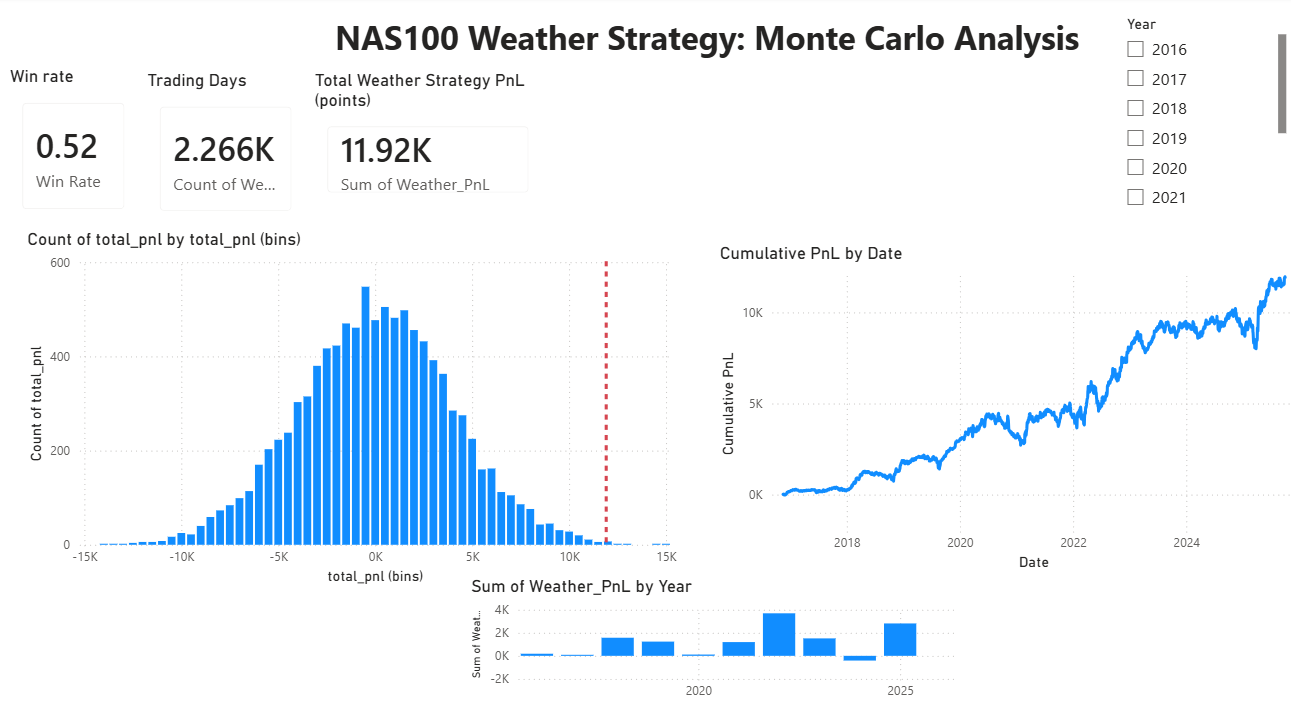

Layout of this report page (visuals, bound fields, positions):
{"tool":"powerbi","page":{"name":"Page 1","canvas":[1280,720],"ordinal":0},"visuals":[{"type":"cardVisual","title":"Total Weather Strategy PnL (points)","fields":{"Data":["Sum(daily_results.Weather_PnL)"]},"box":[308.2,72.1,231.1,138.2],"z":0},{"type":"columnChart","fields":{"Y":["CountNonNull(mc_simulations.total_pnl)"],"Category":["mc_simulations.total_pnl (bins)"]},"box":[26.9,227.4,645.7,353.4],"z":1000},{"type":"lineChart","fields":{"Y":["daily_results.Cumulative PnL"],"Category":["daily_results.Date"]},"box":[704.4,240.9,576,326.5],"z":2000},{"type":"clusteredColumnChart","fields":{"Category":["daily_results.Date.Variation.Date Hierarchy.Year"],"Y":["Sum(daily_results.Weather_PnL)"]},"box":[461,567.4,486.7,130.8],"z":3000},{"type":"slicer","fields":{"Values":["daily_results.Date.Variation.Date Hierarchy.Year"]},"box":[1094.4,13.5,173.6,196.9],"z":4000},{"type":"textbox","box":[327.7,13.5,752,55],"z":5000},{"type":"cardVisual","title":"Trading Days","fields":{"Data":["CountNonNull(daily_results.Weather_PnL)"]},"box":[144.3,72.1,163.9,155.3],"z":6000},{"type":"cardVisual","title":"Win rate","fields":{"Data":["daily_results.Win Rate"]},"box":[9.8,68.5,134.5,157.7],"z":7000}]}

Visuals, with their boxes in screenshot pixels (x1, y1, x2, y2), scaled from the page's 1280x720 canvas onto the 1291x722 screenshot:
"Total Weather Strategy PnL (points)" cardVisual: (311,72,544,211)
columnChart - CountNonNull(mc_simulations.total_pnl) x mc_simulations.total_pnl (bins): (27,228,678,582)
lineChart - daily_results.Cumulative PnL x daily_results.Date: (710,242,1290,569)
clusteredColumnChart - daily_results.Date.Variation.Date Hierarchy.Year x Sum(daily_results.Weather_PnL): (465,569,956,700)
slicer - daily_results.Date.Variation.Date Hierarchy.Year: (1104,14,1279,211)
textbox: (331,14,1089,69)
"Trading Days" cardVisual: (146,72,311,228)
"Win rate" cardVisual: (10,69,146,227)
